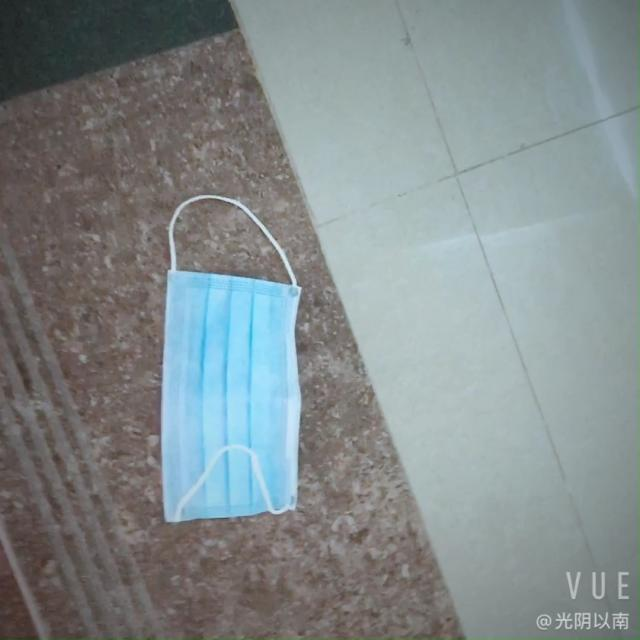non-organic waste: (139, 265, 319, 528)
